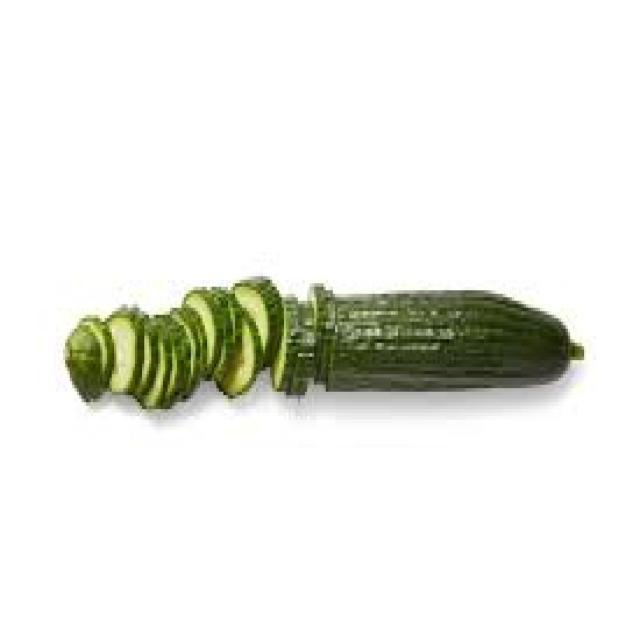Pickle: (65, 276, 576, 407), (314, 288, 575, 390), (217, 310, 263, 395), (185, 293, 214, 367), (109, 316, 136, 392), (236, 286, 265, 352)
